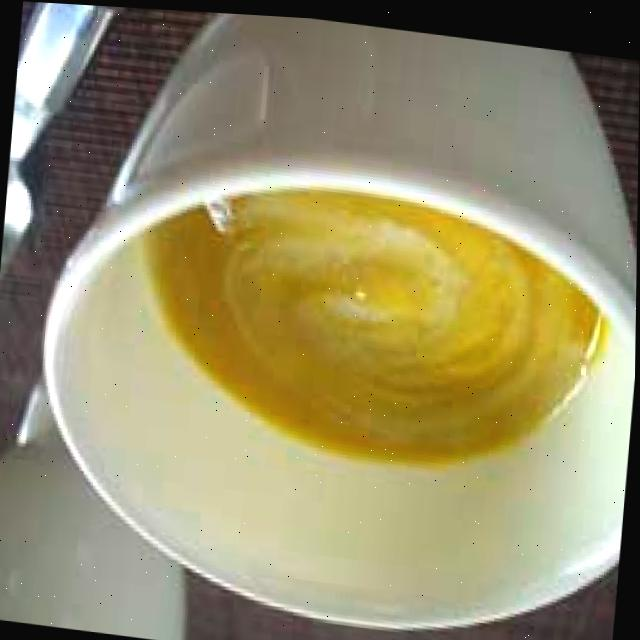汤锅炖物: (0, 0, 640, 578)
